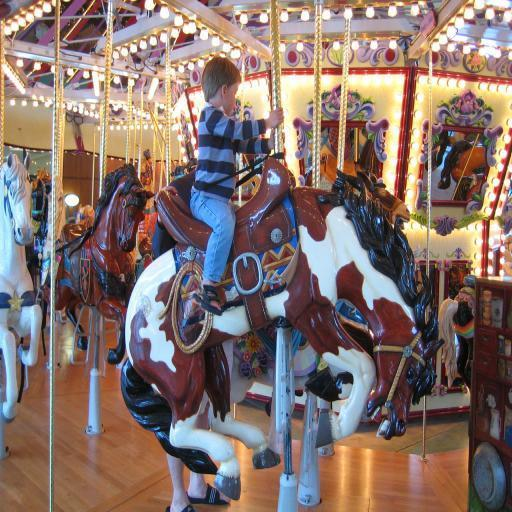horse: (120, 168, 445, 512), (40, 157, 156, 364), (0, 152, 43, 424), (438, 283, 476, 391)
